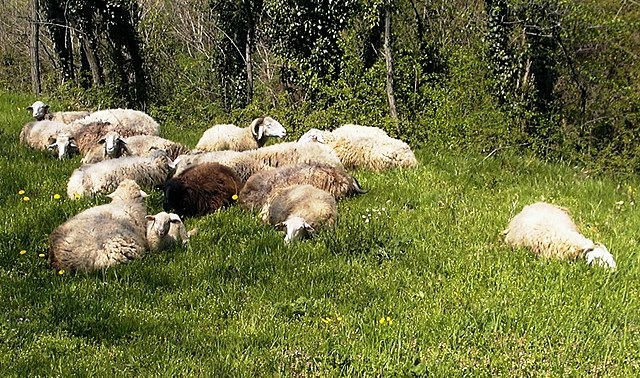resting: (502, 192, 623, 282), (50, 177, 156, 274), (262, 184, 337, 247), (194, 116, 292, 157), (142, 207, 200, 261), (17, 116, 80, 165)
